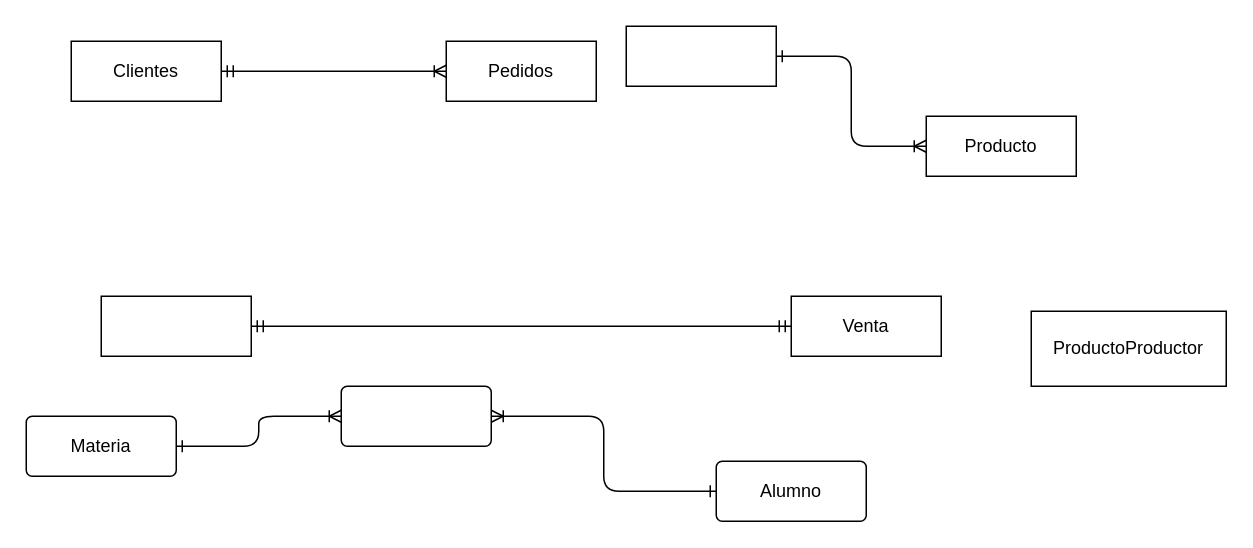
This 1253x548 diagram has some shape labels left out. The box of each missing label's shape, as (x1, y1, x2, y2) in pixels:
Factura: (100, 295, 251, 356)
Inscripcion: (340, 385, 491, 446)
Proveedores: (625, 25, 776, 86)
